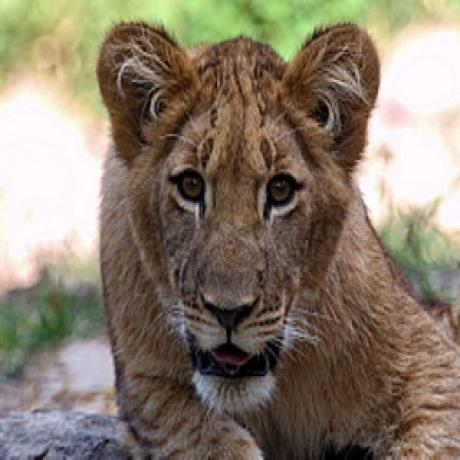Lion: (85, 9, 460, 460)
